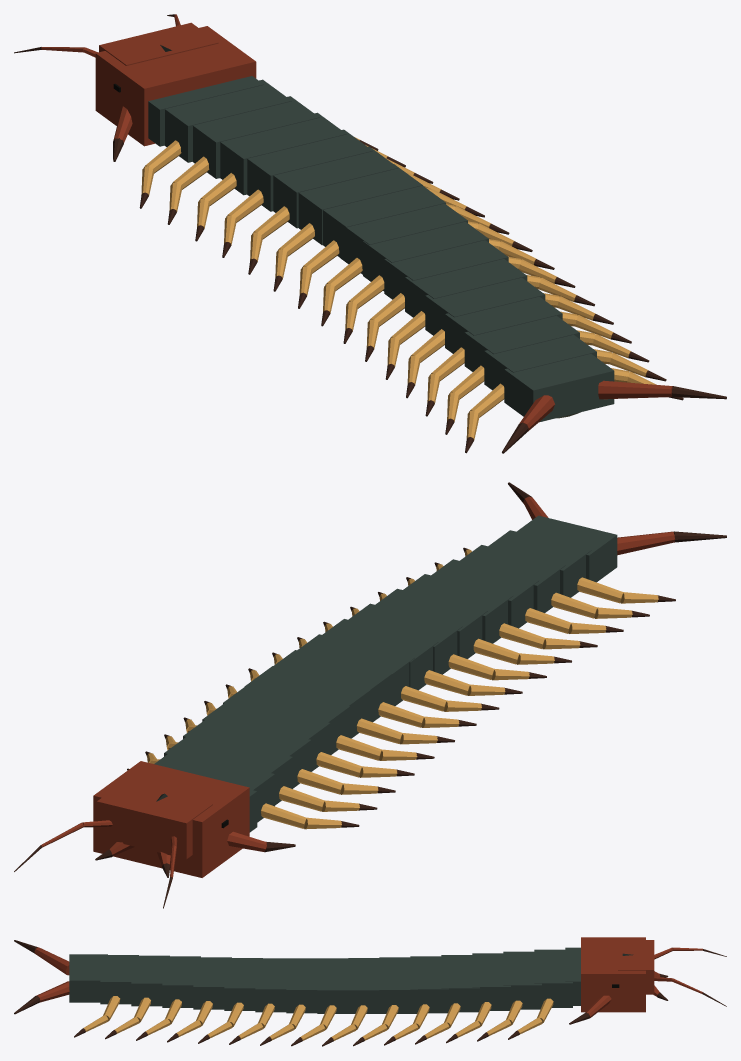
The model's file is centipede.glb.
3 views of the same model, one above another, from view 1: azimuth 30°, elevation 25°; view 2: azimuth 150°, elevation 25°; view 3: azimuth 270°, elevation 25° (orthographic). The views are drawn at different scales.
Parts seen in each view (by area): view 1: head, tergite_16, tergite_01, tergite_02, tergite_03, tergite_04, tergite_05, tergite_06, tergite_07, tergite_09, tergite_10, tergite_11 (+8 smaller); view 2: head, head_shield, tergite_05, tergite_04, tergite_03, tergite_06, tergite_02, tergite_07, tergite_09, tergite_10, tergite_11, tergite_16 (+7 smaller); view 3: head, tergite_06, tergite_02, tergite_01, tergite_03, tergite_04, tergite_05, tergite_07, tergite_08, tergite_09, tergite_10, tergite_11 (+25 smaller).
Boxes of the visible parts, <box> form: head: <box>95,26,256,146</box>; tergite_16: <box>504,354,614,422</box>; tergite_01: <box>165,79,291,162</box>; tergite_02: <box>193,96,319,178</box>; tergite_03: <box>220,112,346,195</box>; tergite_04: <box>247,129,372,211</box>; tergite_05: <box>273,146,398,228</box>; tergite_06: <box>298,164,422,244</box>; tergite_07: <box>323,185,445,261</box>; tergite_09: <box>363,221,488,291</box>; tergite_10: <box>384,240,508,308</box>; tergite_11: <box>405,259,527,317</box>; head: <box>93,761,249,877</box>; head_shield: <box>97,782,212,859</box>; tergite_05: <box>223,682,350,754</box>; tergite_04: <box>202,699,330,771</box>; tergite_03: <box>183,715,311,788</box>; tergite_06: <box>244,666,370,738</box>; tergite_02: <box>164,732,292,805</box>; tergite_07: <box>274,650,392,722</box>; tergite_09: <box>322,619,438,690</box>; tergite_10: <box>348,603,462,674</box>; tergite_11: <box>375,588,487,658</box>; tergite_16: <box>517,515,617,582</box>; head: <box>581,937,645,1012</box>; tergite_06: <box>379,957,417,1013</box>; tergite_02: <box>503,951,541,1009</box>; tergite_01: <box>534,949,572,1007</box>; tergite_03: <box>472,953,510,1010</box>; tergite_04: <box>441,955,479,1012</box>; tergite_05: <box>410,956,448,1013</box>; tergite_07: <box>348,958,379,1013</box>; tergite_08: <box>317,958,348,1013</box>; tergite_09: <box>286,958,317,1013</box>; tergite_10: <box>255,958,286,1012</box>; tergite_11: <box>224,958,262,1010</box>.
Size of the model in its own units: 1.33 by 0.3676 by 4.72.
